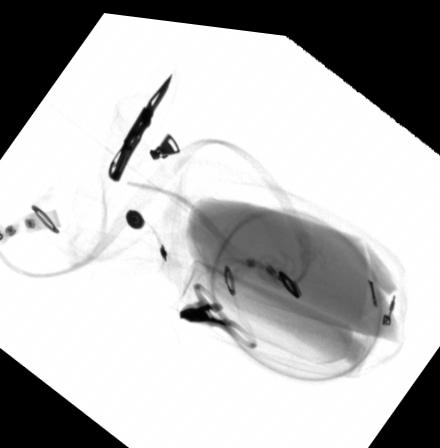Knife: (106, 69, 174, 177)
Scissors: (177, 277, 256, 342)
